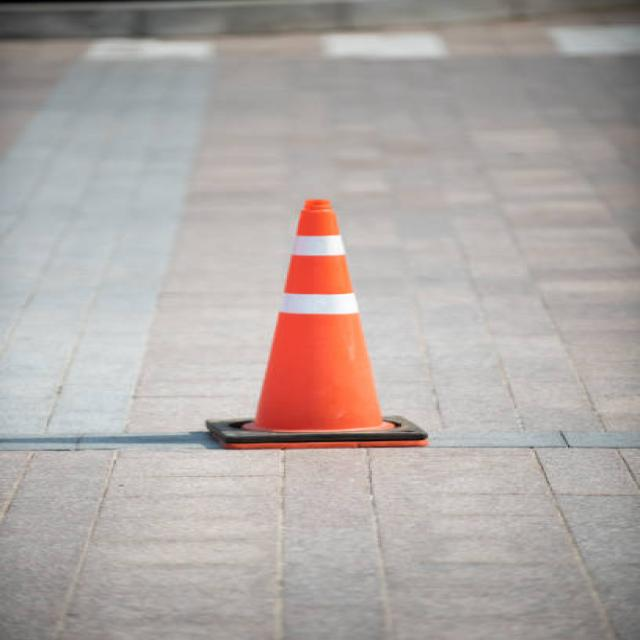Traffic Cone: (178, 177, 455, 463)
